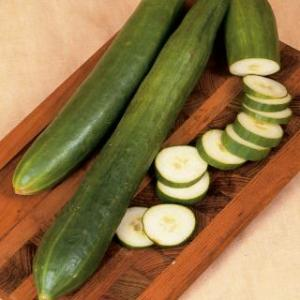cucumber: (30, 0, 230, 298), (8, 0, 190, 195)
